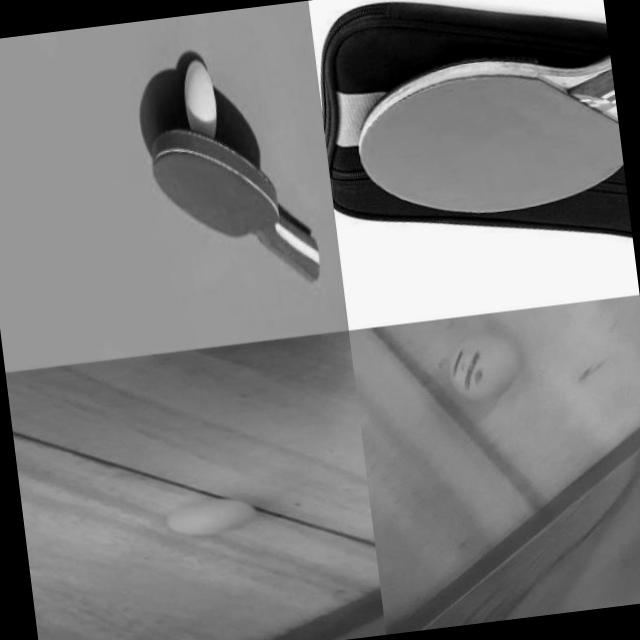ping-pong-ball: (446, 330, 520, 404), (166, 495, 256, 539), (180, 58, 218, 144)
